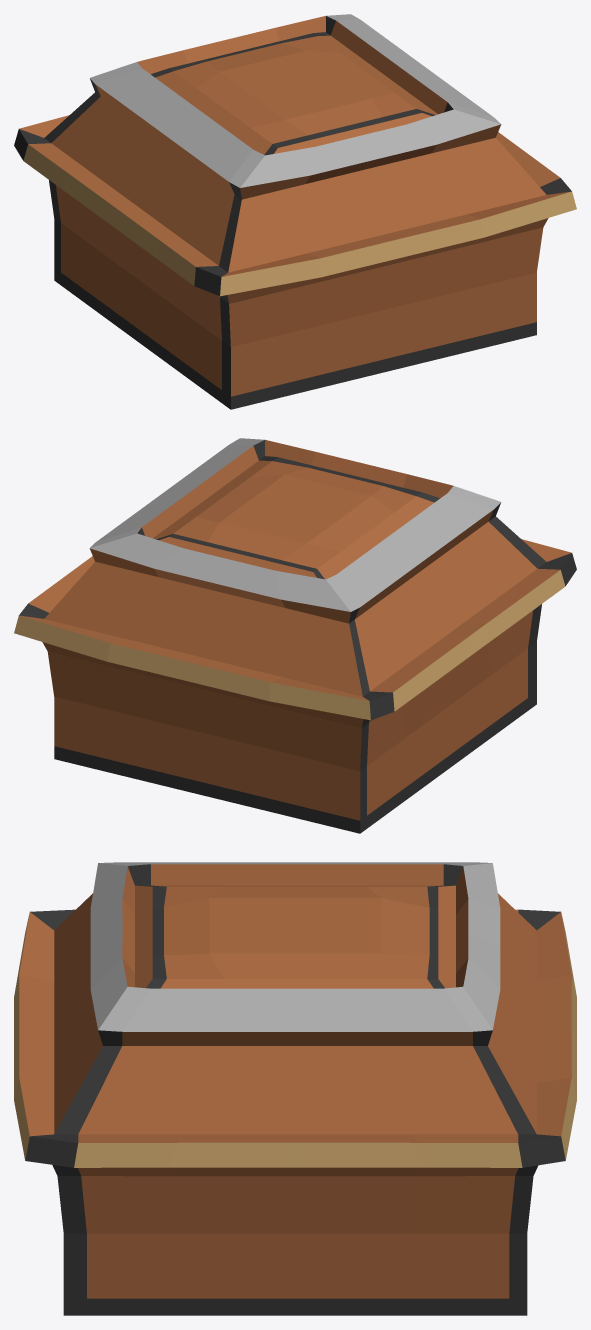
The model's file is chest.fbx.
3 renders of one model, top to bottom at view 1: azimuth 30°, elevation 25°; view 2: azimuth 150°, elevation 25°; view 3: azimuth 270°, elevation 25°, orthographic. The views are drawn at different scales.
Visible parts, largest first — view 1: Chest; view 2: Chest; view 3: Chest.
Part boxes in pixels (bbox=[...]): Chest: bbox=[14, 14, 576, 409]; Chest: bbox=[14, 438, 576, 833]; Chest: bbox=[14, 862, 576, 1315].
Size of the model in its own units: 175 by 100 by 175.
